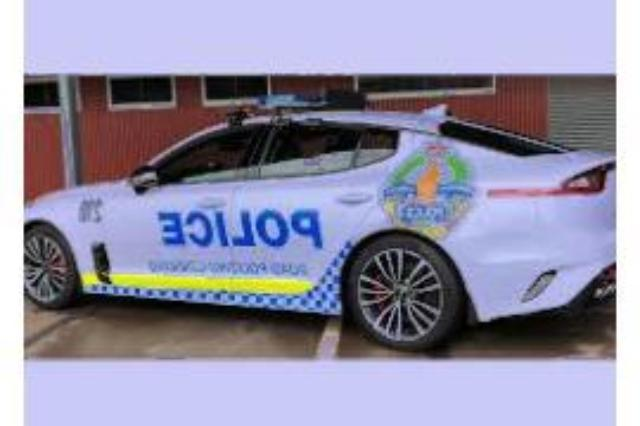police_car: (24, 88, 616, 353)
